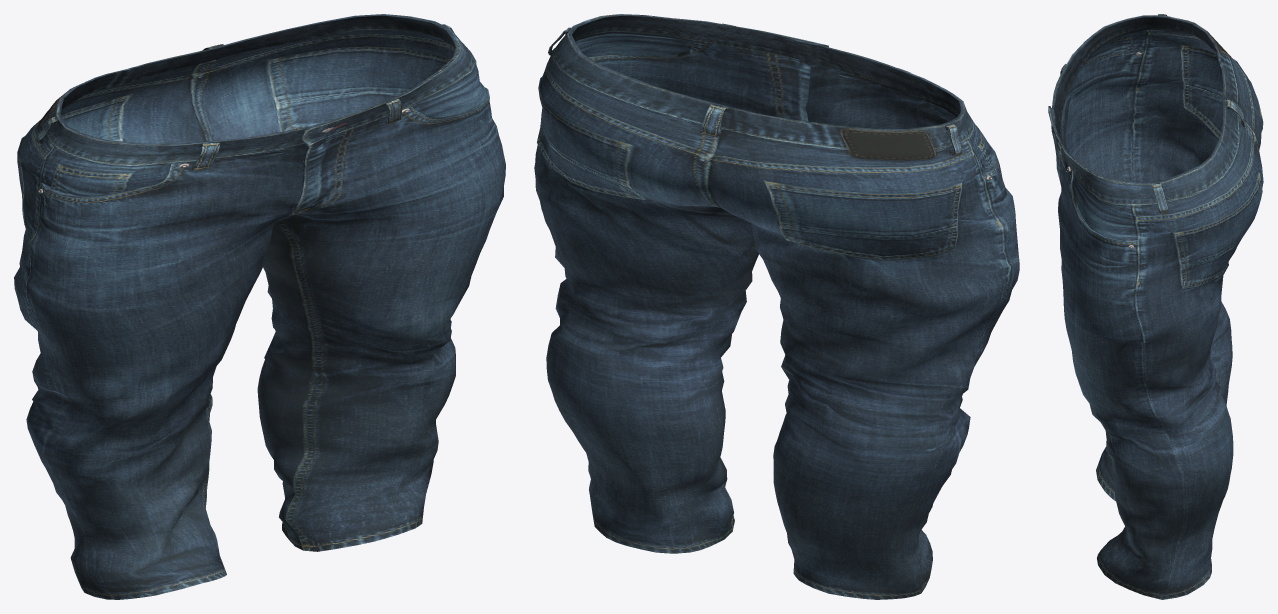
The model's file is carlos_jeans.glb.
3 renders of one model, left to right at view 1: azimuth 30°, elevation 25°; view 2: azimuth 150°, elevation 25°; view 3: azimuth 270°, elevation 25°, orthographic. The views are drawn at different scales.
Visible parts, largest first — view 1: Slim_Jeans.001; view 2: Slim_Jeans.001; view 3: Slim_Jeans.001.
Part boxes in pixels (x1,y1,x2,y2): Slim_Jeans.001: (14,14,505,599); Slim_Jeans.001: (534,14,1019,599); Slim_Jeans.001: (1048,14,1263,599).
Size of the model in its own units: 1.13 by 1.11 by 0.501.
1 material, 1 textured.
